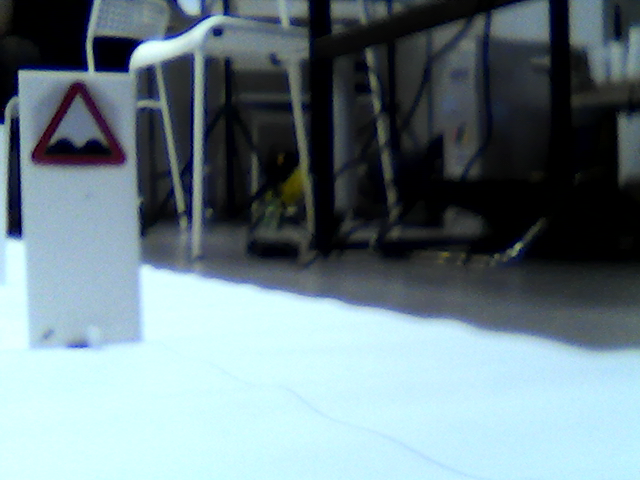Nerov: (29, 80, 128, 168)
